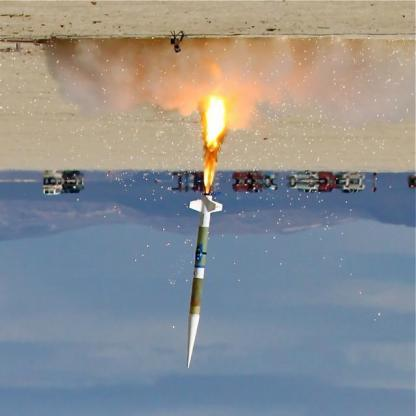MIL_TBM: (181, 193, 222, 371)
